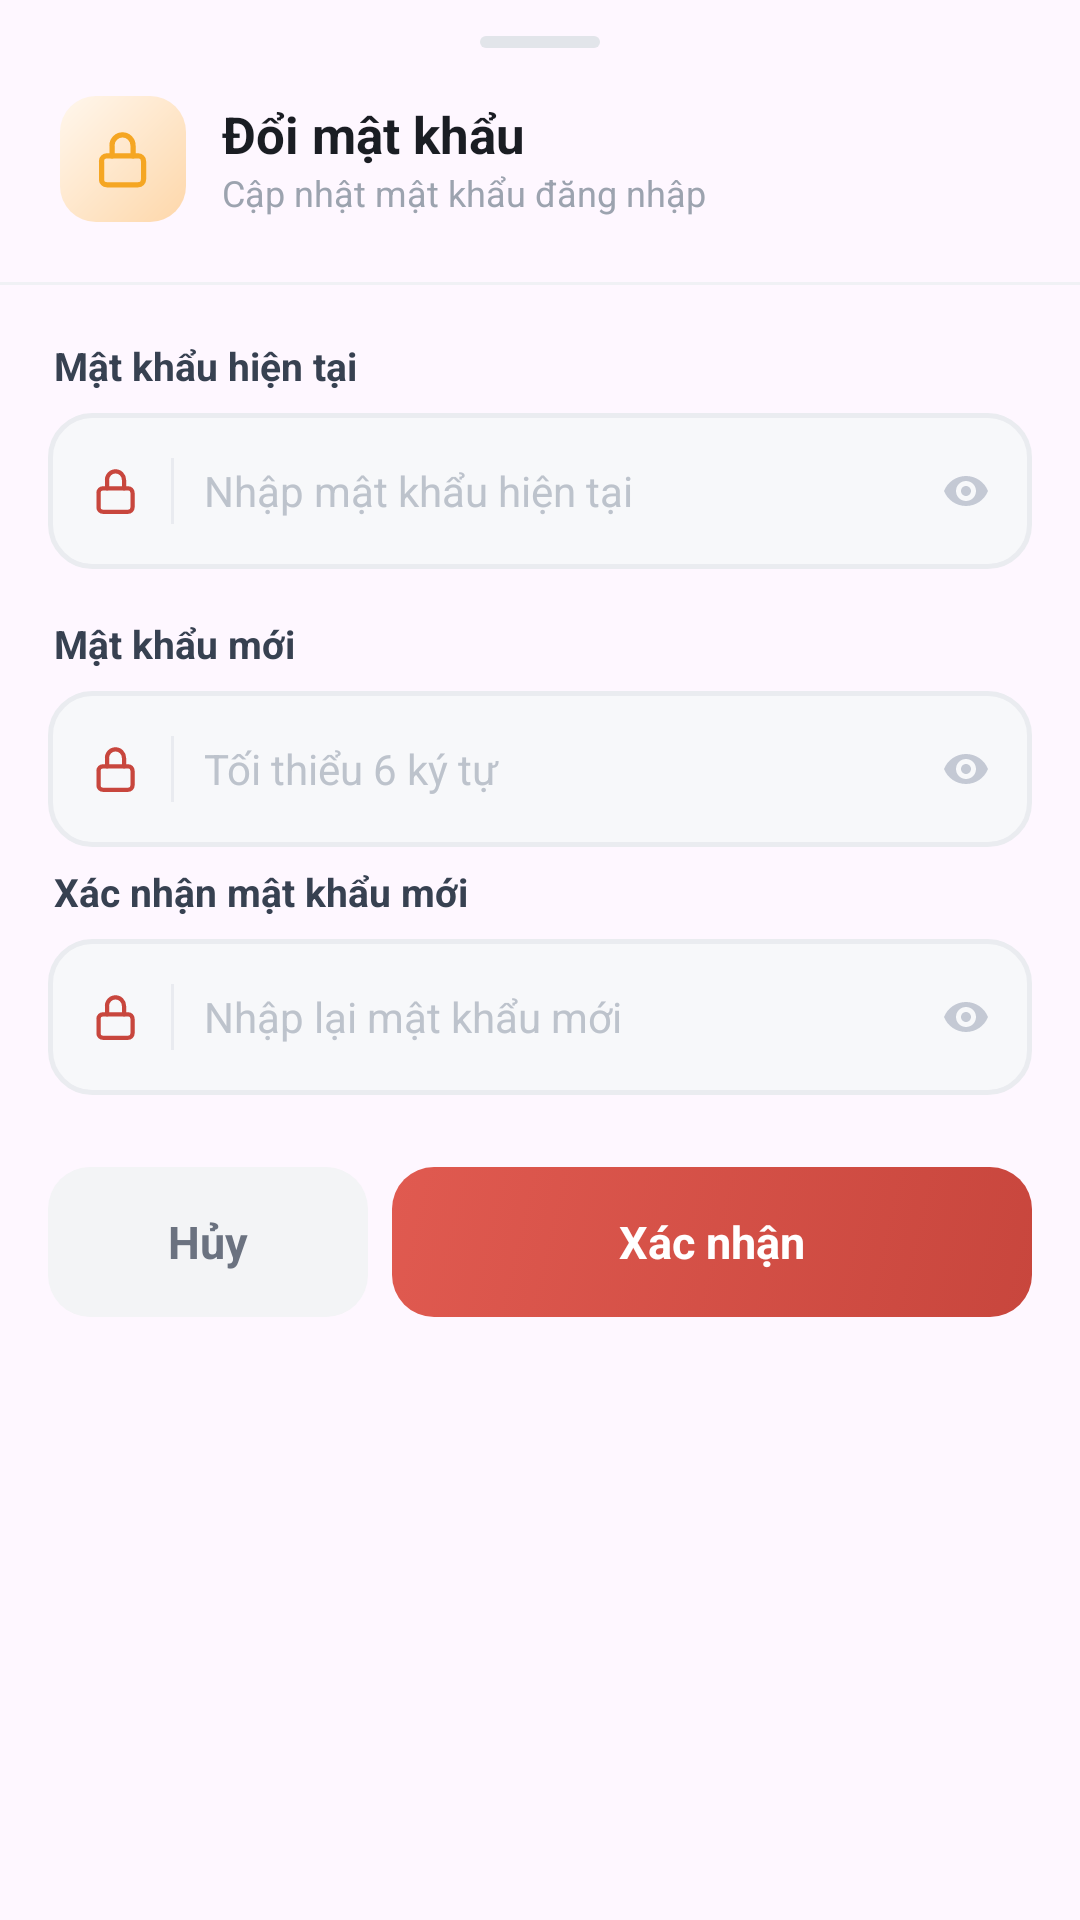

Named icons in this screenshot (1080px x 1920px) and their centers, (x,y):
eye: (966,491), (966,769), (966,1017)
lock: (123,160), (115,491), (115,769), (115,1017)
